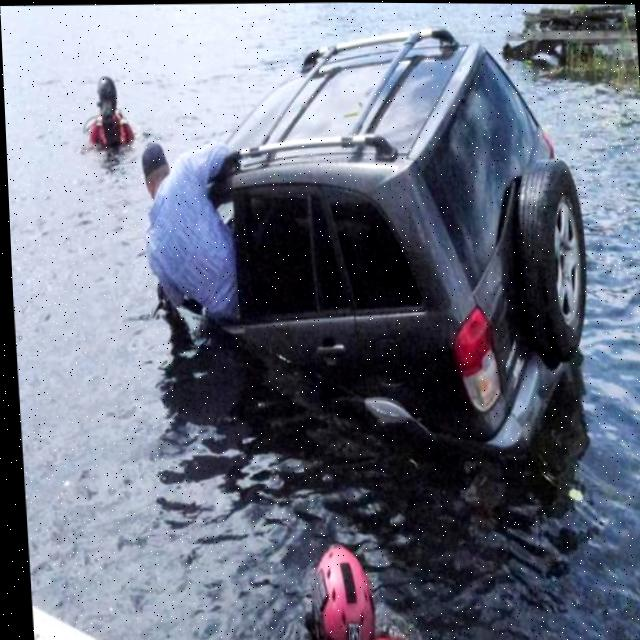civilian: (118, 131, 259, 360)
rescuer: (282, 525, 403, 640), (73, 68, 152, 167)
